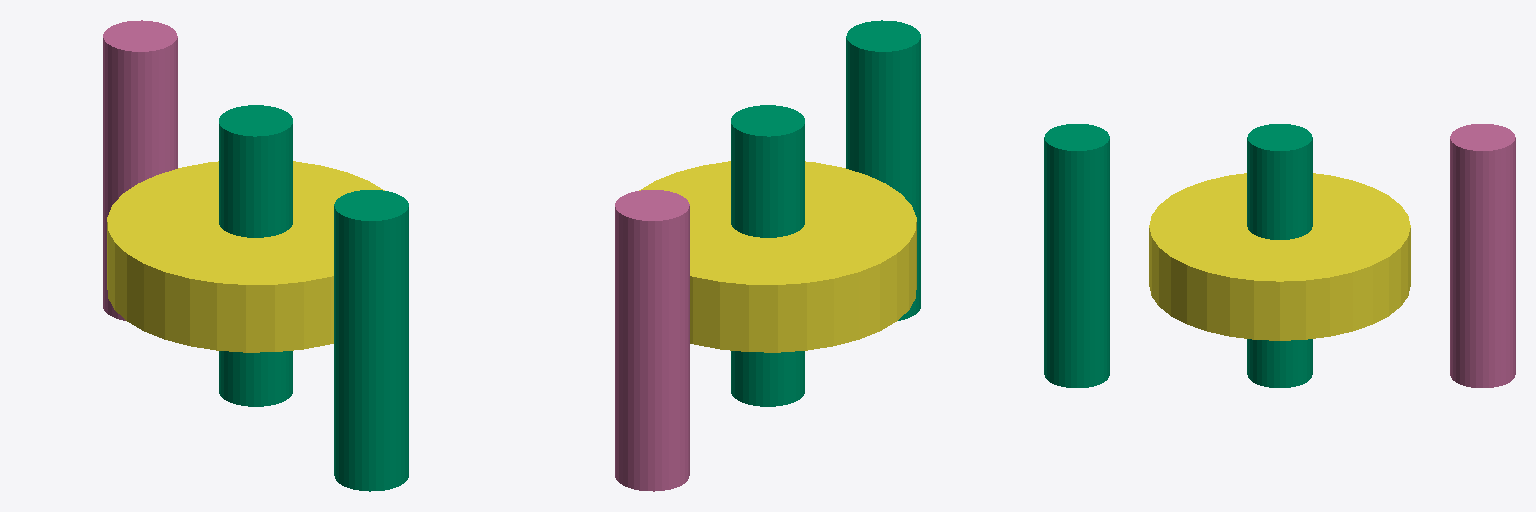
The robot description file, URDF, robot "hippocampus":
<?xml version="1.0" ?>
<!-- =================================================================================== -->
<!-- |    This document was autogenerated by xacro from gripper.xacro                  | -->
<!-- |    EDITING THIS FILE BY HAND IS NOT RECOMMENDED                                 | -->
<!-- =================================================================================== -->
<robot name="hippocampus">
  <link name="world"/>
  <link name="end_effector_base_link">
    <inertial>
      <mass value="0.1"/>
      <inertia ixx="1e-5" ixy="0.0" ixz="0.0" iyy="1e-5" iyz="0.0" izz="1e-5"/>
    </inertial>
    <visual>
      <origin rpy="0 1.5707963267948966 0"/>
      <geometry>
        <mesh filename="file://[local-path]/uuv/ros2/install/hippo_sim/share/hippo_sim/models/gripper/meshes/base.stl"/>
      </geometry>
    </visual>
  </link>
  <joint name="attachment" type="fixed">
    <parent link="world"/>
    <child link="end_effector_base_link"/>
  </joint>
  <link name="end_effector_prismatic_link">
    <inertial>
      <mass value="0.1"/>
      <inertia ixx="1e-5" ixy="0.0" ixz="0.0" iyy="1e-5" iyz="0.0" izz="1e-5"/>
    </inertial>
    <visual>
      <geometry>
        <cylinder length="0.02" radius="0.0025"/>
      </geometry>
    </visual>
  </link>
  <joint name="joint_5" type="prismatic">
    <parent link="end_effector_base_link"/>
    <origin xyz="6.9e-3 0 0"/>
    <child link="end_effector_prismatic_link"/>
    <limit effort="28.992" lower="0.0" upper="0.012" velocity="2.0"/>
    <axis xyz="1 0 0"/>
  </joint>
  <gazebo reference="end_effector_base_link">
    <visual>
      <material>
        <ambient>1 1 1 1</ambient>
        <diffuse>1 1 1 1</diffuse>
        <specular>1 1 1 1</specular>
        <pbr>
          <metal>
            <metalness>1</metalness>
            <roughness>0.5</roughness>
            <environment_map>[local-path]/uuv/ros2/install/hippo_sim/share/hippo_sim/models/common/textures/env_map.dds</environment_map>
            <albedo_map>[local-path]/uuv/ros2/install/hippo_sim/share/hippo_sim/models/common/textures/blue.png</albedo_map>
          </metal>
        </pbr>
      </material>
    </visual>
  </gazebo>
  <link name="end_effector_left_inner_revolute_link">
    <inertial>
      <mass value="0.1"/>
      <inertia ixx="1e-5" ixy="0.0" ixz="0.0" iyy="1e-5" iyz="0.0" izz="1e-5"/>
    </inertial>
    <visual>
      <geometry>
        <cylinder length="0.005" radius="0.01"/>
      </geometry>
    </visual>
  </link>
  <joint name="end_effector_left_inner_revolute_joint" type="continuous">
    <parent link="end_effector_prismatic_link"/>
    <child link="end_effector_left_inner_revolute_link"/>
    <axis xyz="0 0 1"/>
    <dynamics damping="0.6" friction="0.0"/>
  </joint>
  <link name="end_effector_left_prismatic_link">
    <inertial>
      <mass value="0.1"/>
      <inertia ixx="1e-5" ixy="0.0" ixz="0.0" iyy="1e-5" iyz="0.0" izz="1e-5"/>
    </inertial>
  </link>
  <joint name="end_effector_left_prismatic_joint" type="prismatic">
    <parent link="end_effector_left_inner_revolute_link"/>
    <child link="end_effector_left_prismatic_link"/>
    <axis xyz="0 1 0"/>
    <limit effort="100" lower="-1.0" upper="1.0" velocity="1.0"/>
    <origin xyz="0 7.0e-3 0"/>
  </joint>
  <link name="end_effector_left_jaw_link">
    <inertial>
      <mass value="0.1"/>
      <inertia ixx="1e-5" ixy="0.0" ixz="0.0" iyy="1e-5" iyz="0.0" izz="1e-5"/>
    </inertial>
    <visual>
      <geometry>
        <mesh filename="file://[local-path]/uuv/ros2/install/hippo_sim/share/hippo_sim/models/gripper/meshes/left_jaw.stl"/>
      </geometry>
    </visual>
  </link>
  <joint name="end_effector_left_jaw_joint" type="fixed">
    <parent link="end_effector_left_prismatic_link"/>
    <origin xyz="0 8.5e-3 0"/>
    <child link="end_effector_left_jaw_link"/>
  </joint>
  <gazebo reference="end_effector_left_jaw_joint">
    <preserveFixedJoint>true</preserveFixedJoint>
  </gazebo>
  <link name="end_effector_left_revolute_link">
    <inertial>
      <mass value="0.1"/>
      <inertia ixx="1e-5" ixy="0.0" ixz="0.0" iyy="1e-5" iyz="0.0" izz="1e-5"/>
    </inertial>
    <visual>
      <geometry>
        <cylinder length="0.02" radius="0.0025"/>
      </geometry>
    </visual>
  </link>
  <joint name="end_effector_left_revolute_joint" type="continuous">
    <parent link="end_effector_left_jaw_link"/>
    <child link="end_effector_left_revolute_link"/>
    <axis xyz="0 0 1"/>
    <dynamics damping="0.6" friction="0.0"/>
  </joint>
  <gazebo>
    <plugin filename="libgz-sim-detachable-joint-system.so" name="gz::sim::systems::DetachableJoint">
      <parent_link>end_effector_left_revolute_link</parent_link>
      <child_model>hippocampus</child_model>
      <child_link>end_effector_base_link</child_link>
    </plugin>
  </gazebo>
  <gazebo reference="end_effector_left_jaw_link">
    <visual>
      <material>
        <ambient>1 1 1 1</ambient>
        <diffuse>1 1 1 1</diffuse>
        <specular>1 1 1 1</specular>
        <pbr>
          <metal>
            <metalness>1</metalness>
            <roughness>0.5</roughness>
            <environment_map>[local-path]/uuv/ros2/install/hippo_sim/share/hippo_sim/models/common/textures/env_map.dds</environment_map>
            <albedo_map>[local-path]/uuv/ros2/install/hippo_sim/share/hippo_sim/models/common/textures/blue.png</albedo_map>
          </metal>
        </pbr>
      </material>
    </visual>
  </gazebo>
  <link name="end_effector_right_inner_revolute_link">
    <inertial>
      <mass value="0.1"/>
      <inertia ixx="1e-5" ixy="0.0" ixz="0.0" iyy="1e-5" iyz="0.0" izz="1e-5"/>
    </inertial>
    <visual>
      <geometry>
        <cylinder length="0.005" radius="0.01"/>
      </geometry>
    </visual>
  </link>
  <joint name="end_effector_right_inner_revolute_joint" type="continuous">
    <parent link="end_effector_prismatic_link"/>
    <child link="end_effector_right_inner_revolute_link"/>
    <axis xyz="0 0 1"/>
    <dynamics damping="0.6" friction="0.0"/>
  </joint>
  <link name="end_effector_right_prismatic_link">
    <inertial>
      <mass value="0.1"/>
      <inertia ixx="1e-5" ixy="0.0" ixz="0.0" iyy="1e-5" iyz="0.0" izz="1e-5"/>
    </inertial>
  </link>
  <joint name="end_effector_right_prismatic_joint" type="prismatic">
    <parent link="end_effector_right_inner_revolute_link"/>
    <child link="end_effector_right_prismatic_link"/>
    <axis xyz="0 1 0"/>
    <limit effort="100" lower="-1.0" upper="1.0" velocity="1.0"/>
    <origin xyz="0 -7.0e-3 0"/>
  </joint>
  <link name="end_effector_right_jaw_link">
    <inertial>
      <mass value="0.1"/>
      <inertia ixx="1e-5" ixy="0.0" ixz="0.0" iyy="1e-5" iyz="0.0" izz="1e-5"/>
    </inertial>
    <visual>
      <geometry>
        <mesh filename="file://[local-path]/uuv/ros2/install/hippo_sim/share/hippo_sim/models/gripper/meshes/right_jaw.stl"/>
      </geometry>
    </visual>
  </link>
  <joint name="end_effector_right_jaw_joint" type="fixed">
    <parent link="end_effector_right_prismatic_link"/>
    <origin xyz="0 -8.5e-3 0"/>
    <child link="end_effector_right_jaw_link"/>
  </joint>
  <gazebo reference="end_effector_right_jaw_joint">
    <preserveFixedJoint>true</preserveFixedJoint>
  </gazebo>
  <link name="end_effector_right_revolute_link">
    <inertial>
      <mass value="0.1"/>
      <inertia ixx="1e-5" ixy="0.0" ixz="0.0" iyy="1e-5" iyz="0.0" izz="1e-5"/>
    </inertial>
    <visual>
      <geometry>
        <cylinder length="0.02" radius="0.0025"/>
      </geometry>
    </visual>
  </link>
  <joint name="end_effector_right_revolute_joint" type="continuous">
    <parent link="end_effector_right_jaw_link"/>
    <child link="end_effector_right_revolute_link"/>
    <axis xyz="0 0 1"/>
    <dynamics damping="0.6" friction="0.0"/>
  </joint>
  <gazebo>
    <plugin filename="libgz-sim-detachable-joint-system.so" name="gz::sim::systems::DetachableJoint">
      <parent_link>end_effector_right_revolute_link</parent_link>
      <child_model>hippocampus</child_model>
      <child_link>end_effector_base_link</child_link>
    </plugin>
  </gazebo>
  <gazebo reference="end_effector_right_jaw_link">
    <visual>
      <material>
        <ambient>1 1 1 1</ambient>
        <diffuse>1 1 1 1</diffuse>
        <specular>1 1 1 1</specular>
        <pbr>
          <metal>
            <metalness>1</metalness>
            <roughness>0.5</roughness>
            <environment_map>[local-path]/uuv/ros2/install/hippo_sim/share/hippo_sim/models/common/textures/env_map.dds</environment_map>
            <albedo_map>[local-path]/uuv/ros2/install/hippo_sim/share/hippo_sim/models/common/textures/blue.png</albedo_map>
          </metal>
        </pbr>
      </material>
    </visual>
  </gazebo>
  <!--
        <xacro:jaw is_left="false" parent_fixed_link="${base_link_name}"
            parent_prismatic_link="${prismatic_link_name}" />
        -->
  <gazebo>
    <disableFixedJointLumping>true</disableFixedJointLumping>
    <plugin filename="libignition-gazebo-joint-state-publisher-system.so" name="ignition::gazebo::systems::JointStatePublisher"/>
    <plugin filename="libignition-gazebo-apply-joint-force-system.so" name="ignition::gazebo::systems::ApplyJointForce">
      <joint_name>joint_5</joint_name>
    </plugin>
  </gazebo>
  <!--
    <xacro:include filename="$(find hippo_sim)/models/common/urdf/common.xacro" />
    <xacro:macro name="dummy_inertia">
        <inertial>
            <mass value="0.1" />
            <inertia ixx="1e-5" ixy="0.0" ixz="0.0" iyy="1e-5" iyz="0.0" izz="1e-5" />
        </inertial>
    </xacro:macro>
    <xacro:arg name="vehicle_name" default="this_shoud_be_replaced_by_your_vehicle_name" />
    <link name="world" />
    <joint name="attachment" type="fixed">
        <parent link="world" />
        <child link="base_link" />
    </joint>

    <link name="base_link">
        <xacro:dummy_inertia />
        <visual>
            <geometry>
                <sphere radius="0.05" />
            </geometry>
        </visual>
    </link>

    <link name="prismatic_link">
        <xacro:dummy_inertia />
        <visual>
            <origin xyz="0 0 0" rpy="0 1.57 0" />
            <geometry>
                <cylinder radius="0.05" length="0.1" />
            </geometry>
        </visual>

    </link>

    <joint name="prismatic_joint" type="prismatic">
        <parent link="base_link" />
        <child link="prismatic_link" />
        <axis xyz="1 0 0" />
        <limit lower="-1.0" upper=" 1.0" effort="100" velocity="1.0" />
        <origin xyz="1 0 0" />
    </joint>

    <link name="left_prismatic_revolute_link">
        <xacro:dummy_inertia />
        <visual>
            <origin xyz="0 0.5 0" rpy="1.57 0 0" />
            <geometry>
                <cylinder radius="0.02" length="0.3" />
            </geometry>
        </visual>
    </link>

    <joint name="left_prismatic_revolute_joint" type="continuous">
        <parent link="prismatic_link" />
        <child link="left_prismatic_revolute_link" />
        <axis xyz="0 0 1" />
        <dynamics damping="1.0" friction="0.0" />
    </joint>
    <link name="left_jaw">
        <xacro:dummy_inertia />
        <visual>
            <origin xyz="0.4 0 0" rpy="0 1.57 0" />
            <geometry>
                <cylinder radius="0.01" length="0.8" />
            </geometry>
        </visual>
    </link>
    <joint name="left_jaw_joint" type="fixed">
        <parent link="left_rotation_dummy_link" />
        <child link="left_jaw" />
        <origin xyz="0 0 0" />
    </joint>

    <link name="left_prismatic_link">
        <xacro:dummy_inertia />
        <visual>
            <origin xyz="0 0 0" rpy="-1.57 0 0" />
            <geometry>
                <cylinder radius="0.05" length="0.1" />
            </geometry>
        </visual>

    </link>

    <joint name="left_prismatic_joint" type="prismatic">
        <parent link="left_prismatic_revolute_link" />
        <child link="left_prismatic_link" />
        <axis xyz="0 1 0" />
        <limit lower="-1.0" upper="1.0" effort="100" velocity="1.0" />
        <origin xyz="0 0.5 0" />
    </joint>


    <link name="left_rotation_link">
        <origin xyz="0 0 0" />
        <xacro:dummy_inertia />
        <visual>
            <geometry>
                <box size="0.1 0.1 0.1" />
            </geometry>
        </visual>
    </link>

    <joint name="left_revolute_joint" type="continuous">
        <parent link="left_rotation_dummy_link" />
        <child link="left_rotation_link" />
        <axis xyz="0 0 1" />
        <origin xyz="0 0 0" />
        <dynamics damping="0.6" friction="0.0" />
    </joint>

    <link name="left_rotation_dummy_link">
        <origin xyz="0 0 0" />
        <xacro:dummy_inertia />
        <visual>
            <geometry>
                <box size="0.01 0.01 0.5" />
            </geometry>
        </visual>
    </link>
    <joint name="dummy_joint" type="fixed">
        <parent link="left_prismatic_link" />
        <child link="left_rotation_dummy_link" />
        <origin xyz="0 0.5 0" />
        <axis xyz="0 0 1" />
        <limit lower="0.7853981633974483" upper="0.7853981633974483" effort="10" velocity="1" />
    </joint>

    <gazebo>
        <disableFixedJointLumping>true</disableFixedJointLumping>
        <plugin filename="libgz-sim-detachable-joint-system.so"
            name="gz::sim::systems::DetachableJoint">
            <parent_link>left_rotation_link</parent_link>
            <child_model>hippocampus</child_model>
            <child_link>base_link</child_link>
        </plugin>
        <plugin filename="libignition-gazebo-joint-state-publisher-system.so"
            name="ignition::gazebo::systems::JointStatePublisher" />

        <plugin filename="libignition-gazebo-apply-joint-force-system.so"
            name="ignition::gazebo::systems::ApplyJointForce">
            <joint_name>prismatic_joint</joint_name>
        </plugin>

        <plugin filename="libignition-gazebo-apply-joint-force-system.so"
            name="ignition::gazebo::systems::ApplyJointForce">
            <joint_name>left_prismatic_revolute_joint</joint_name>
        </plugin>
        <plugin filename="libignition-gazebo-apply-joint-force-system.so"
            name="ignition::gazebo::systems::ApplyJointForce">
            <joint_name>left_revolute_joint</joint_name>
        </plugin>
    </gazebo>
    -->
</robot>

--- What the picture shows (computed from the rendered views, not written in the file) ---
3 views of the same robot in one strip: view 1: azimuth 30°, elevation 25°; view 2: azimuth 150°, elevation 25°; view 3: azimuth 270°, elevation 25° (orthographic).
Model hippocampus with 11 links and 10 joints (4 continuous, 3 prismatic, 3 fixed), rooted at world, posed all joints at 0.
Links seen in each view (by area): view 1: end_effector_left_inner_revolute_link, end_effector_right_revolute_link, end_effector_prismatic_link, end_effector_left_revolute_link; view 2: end_effector_left_inner_revolute_link, end_effector_left_revolute_link, end_effector_prismatic_link, end_effector_right_revolute_link; view 3: end_effector_left_inner_revolute_link, end_effector_left_revolute_link, end_effector_right_revolute_link, end_effector_prismatic_link.
Boxes of the visible links, x1=… form: end_effector_left_inner_revolute_link: x1=107, y1=161, x2=384, y2=352; end_effector_right_revolute_link: x1=334, y1=190, x2=408, y2=491; end_effector_prismatic_link: x1=219, y1=105, x2=292, y2=406; end_effector_left_revolute_link: x1=103, y1=20, x2=177, y2=320; end_effector_left_inner_revolute_link: x1=639, y1=161, x2=916, y2=352; end_effector_left_revolute_link: x1=615, y1=190, x2=689, y2=491; end_effector_prismatic_link: x1=731, y1=105, x2=804, y2=406; end_effector_right_revolute_link: x1=846, y1=20, x2=920, y2=320; end_effector_left_inner_revolute_link: x1=1149, y1=173, x2=1410, y2=340; end_effector_left_revolute_link: x1=1450, y1=124, x2=1515, y2=387; end_effector_right_revolute_link: x1=1044, y1=124, x2=1109, y2=387; end_effector_prismatic_link: x1=1247, y1=124, x2=1312, y2=387.
Bounding box of the posed robot: 0.02 × 0.036 × 0.02 m (x, y, z).
Geometry: only primitive shapes (box / cylinder / sphere) drawn; not drawn: 3 mesh visuals (reference in a form the renderer does not follow).